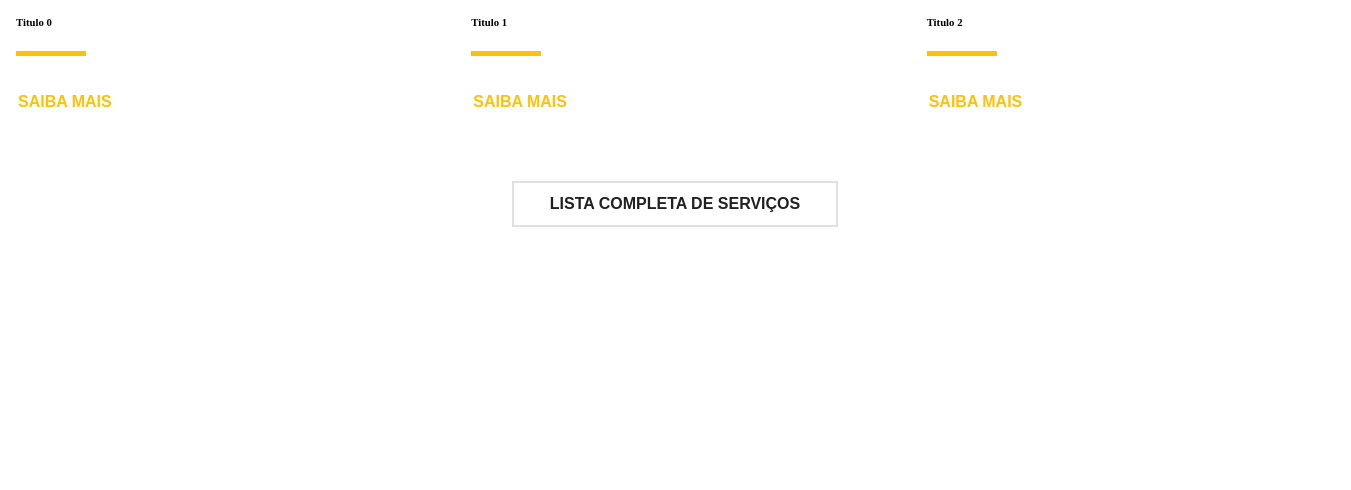
Test case: with 4 products › show all the products when button is clicked
Step 1. Click the button "Lista completa de serviços" → [675, 204], box [512,181,838,227]
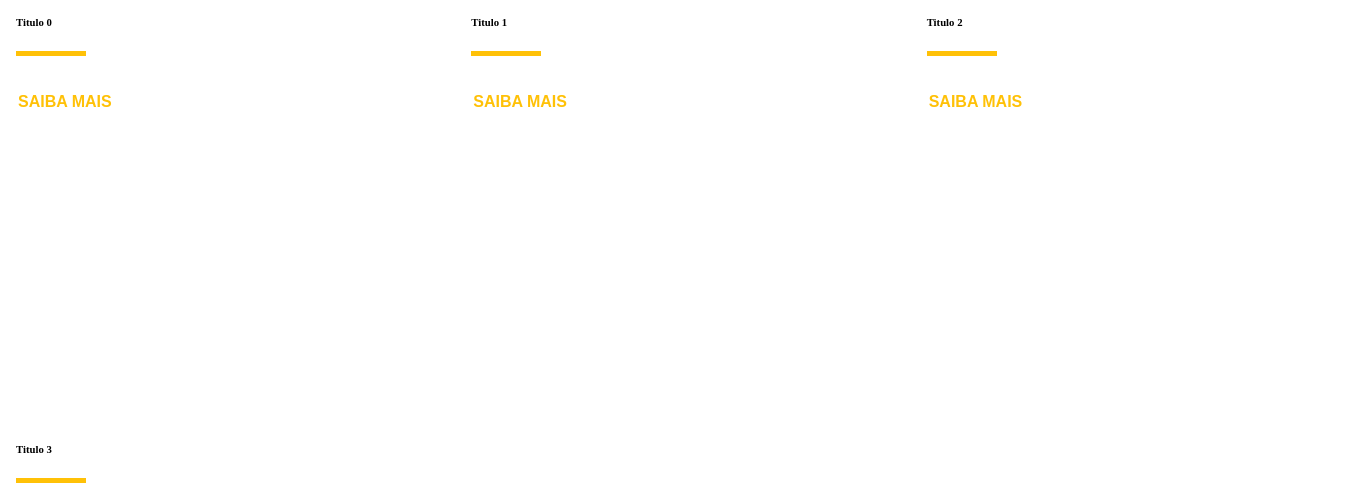
Expected: the number of headings is 4, [16,16,423,54]; [471,16,879,54]; [927,16,1334,54]; [16,443,423,481]
